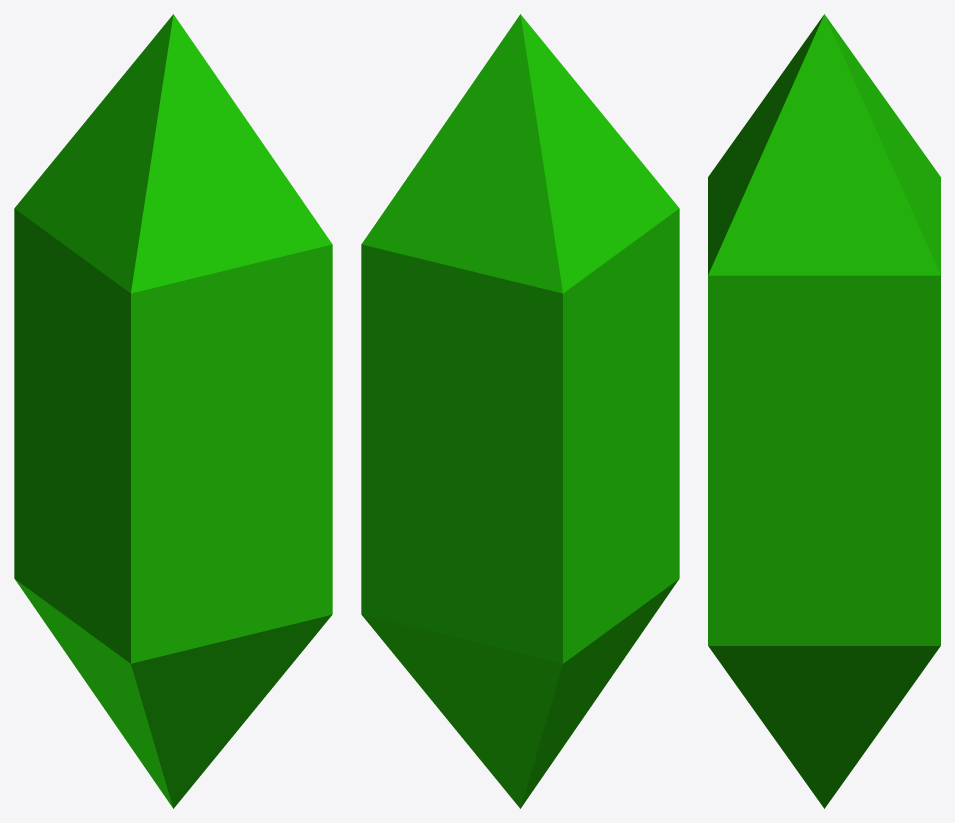
Rendered from right_arm_lower.obj.
The picture shows the model from 3 angles, left to right: view 1: azimuth 30°, elevation 25°; view 2: azimuth 150°, elevation 25°; view 3: azimuth 270°, elevation 25°; orthographic projection.
Parts seen in each view (by area): view 1: right_arm_lower; view 2: right_arm_lower; view 3: right_arm_lower.
Boxes of the visible parts, x1,y1,x2,y2 form: right_arm_lower: [14, 14, 332, 808]; right_arm_lower: [361, 14, 679, 808]; right_arm_lower: [708, 14, 940, 808].
Size of the model in its own units: 0.499 by 1.88 by 0.499.
